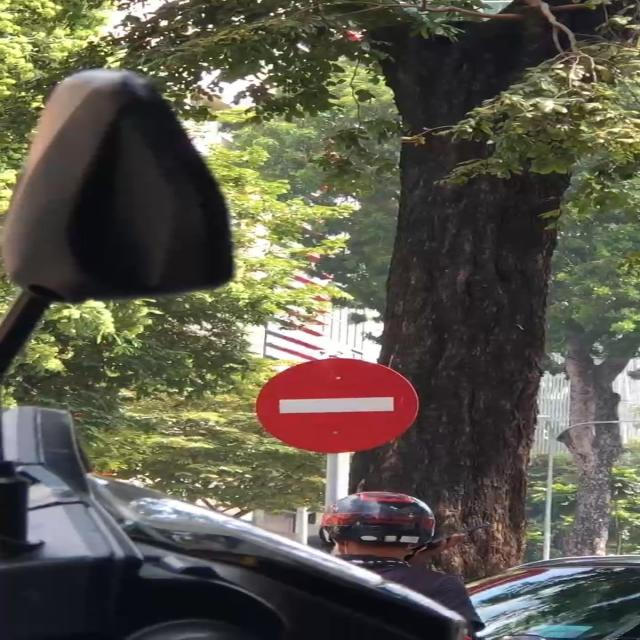Bien bao cam di nguoc chieu: (243, 358, 451, 465)
